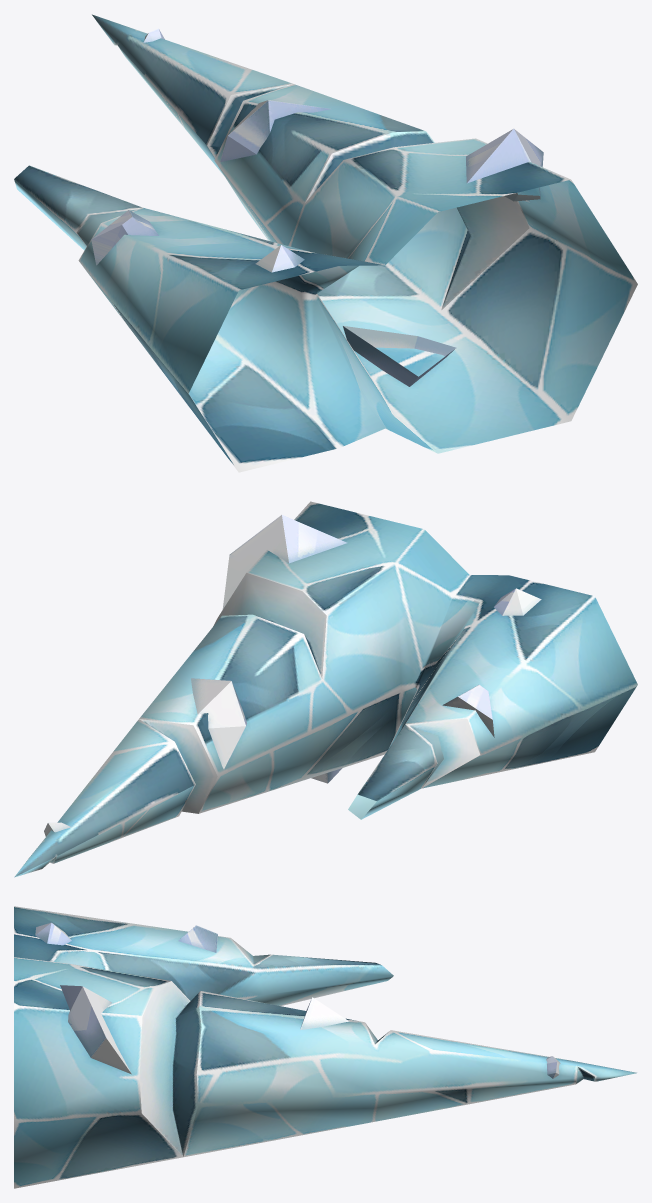
Rendered from DiamondStalagmite.fbx.
The picture shows the model from 3 angles, top to bottom: view 1: azimuth 30°, elevation 25°; view 2: azimuth 150°, elevation 25°; view 3: azimuth 270°, elevation 25°; orthographic projection. The views are drawn at different scales.
Visible parts, largest first — view 1: DiamondStalagmite; view 2: DiamondStalagmite; view 3: DiamondStalagmite.
Part boxes in pixels (box(x1,y1,x2,y2)): DiamondStalagmite: box(14, 14, 637, 472); DiamondStalagmite: box(14, 501, 637, 877); DiamondStalagmite: box(14, 906, 636, 1188).
Size of the model in its own units: 82.34 by 45.94 by 131.
